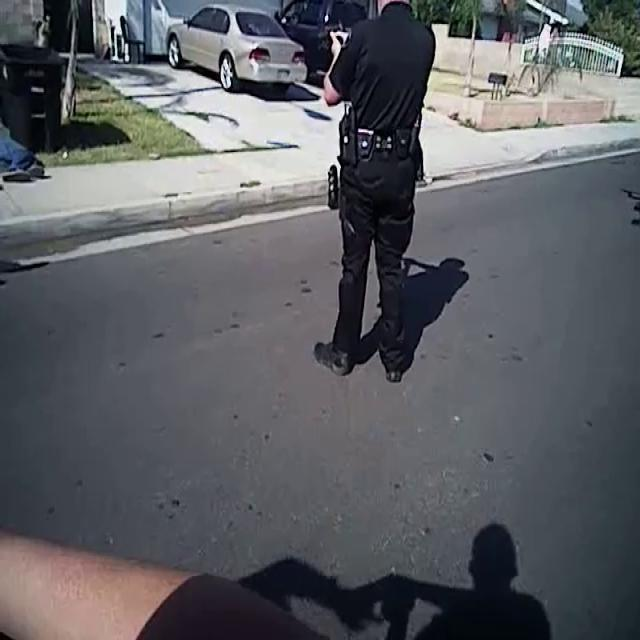gun: (307, 14, 365, 71)
